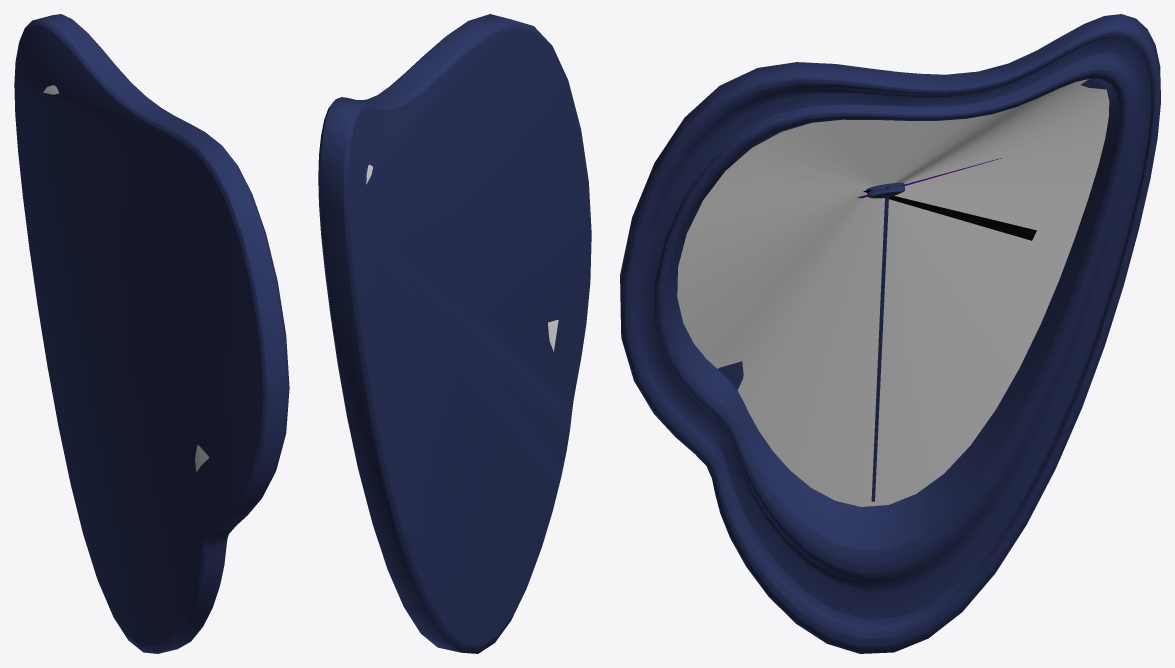
Rendered from melting clock1(SEP).fbx.
3 views of the same model, side by side, from view 1: azimuth 30°, elevation 25°; view 2: azimuth 150°, elevation 25°; view 3: azimuth 270°, elevation 25° (orthographic). The views are drawn at different scales.
Visible parts, largest first — view 1: Cylinder.002, Cylinder; view 2: Cylinder.002, Cylinder; view 3: Cylinder, Cylinder.002, Cylinder.001.
Part boxes in pixels (<box>): Cylinder.002: <box>14,14,289,653</box>; Cylinder: <box>43,36,243,587</box>; Cylinder.002: <box>318,14,591,653</box>; Cylinder: <box>320,39,571,466</box>; Cylinder: <box>674,30,1159,620</box>; Cylinder.002: <box>620,14,1160,653</box>; Cylinder.001: <box>857,158,1036,501</box>.
Bounding box in the file's own units: 50.22 × 425 × 328.
